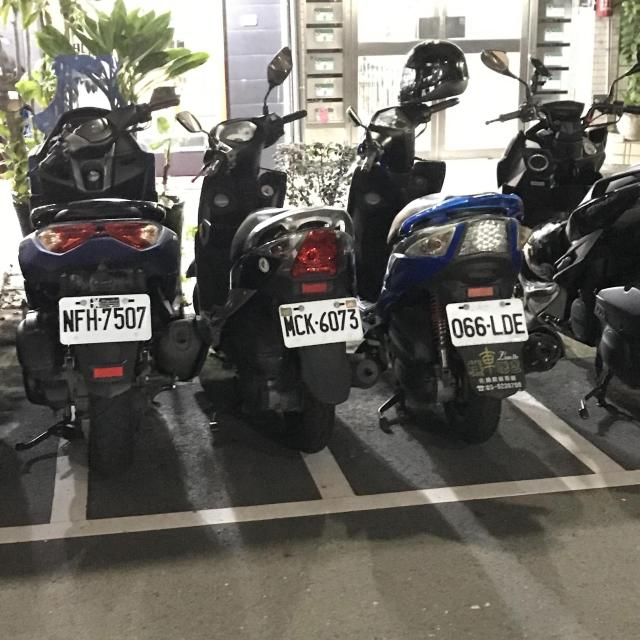W: (271, 292, 370, 349), (53, 292, 156, 345), (439, 292, 533, 348)
